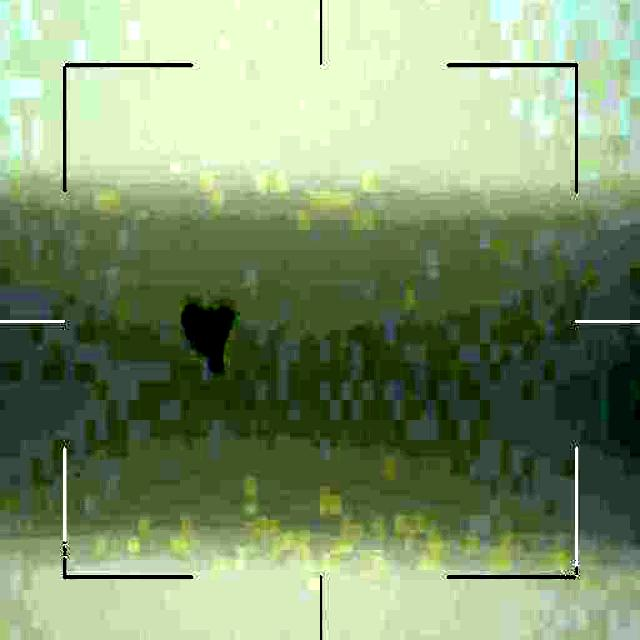bird: (178, 298, 241, 380)
